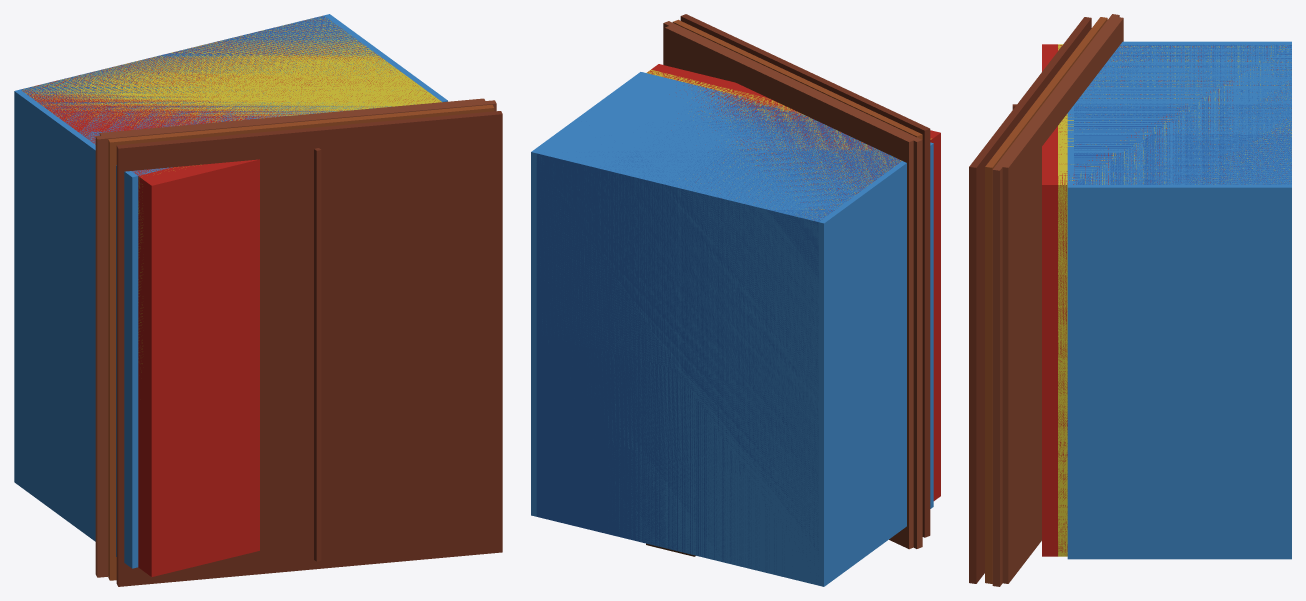
File: entorno_casas.obj
3 views of the same model, side by side, from view 1: azimuth 30°, elevation 25°; view 2: azimuth 150°, elevation 25°; view 3: azimuth 270°, elevation 25° (orthographic). The views are drawn at different scales.
Visible parts, largest first — view 1: Export_Casas; view 2: Export_Casas; view 3: Export_Casas.
Boxes of the visible parts, left/top/right/bottom form: Export_Casas: left=14, top=14, right=502, bottom=586; Export_Casas: left=531, top=14, right=940, bottom=586; Export_Casas: left=969, top=14, right=1291, bottom=586.
Size of the model in its own units: 5.79 by 7.17 by 5.04.
